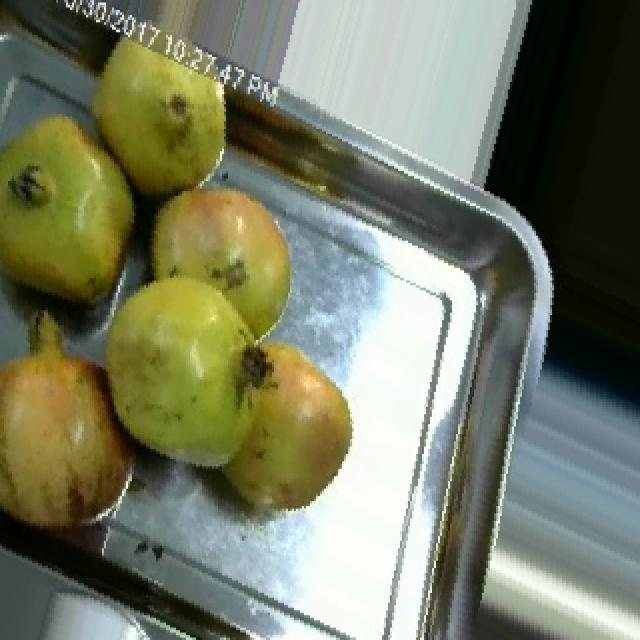fruit: (72, 241, 290, 498), (0, 300, 168, 568), (192, 318, 380, 543), (0, 92, 160, 340), (62, 18, 252, 218)
